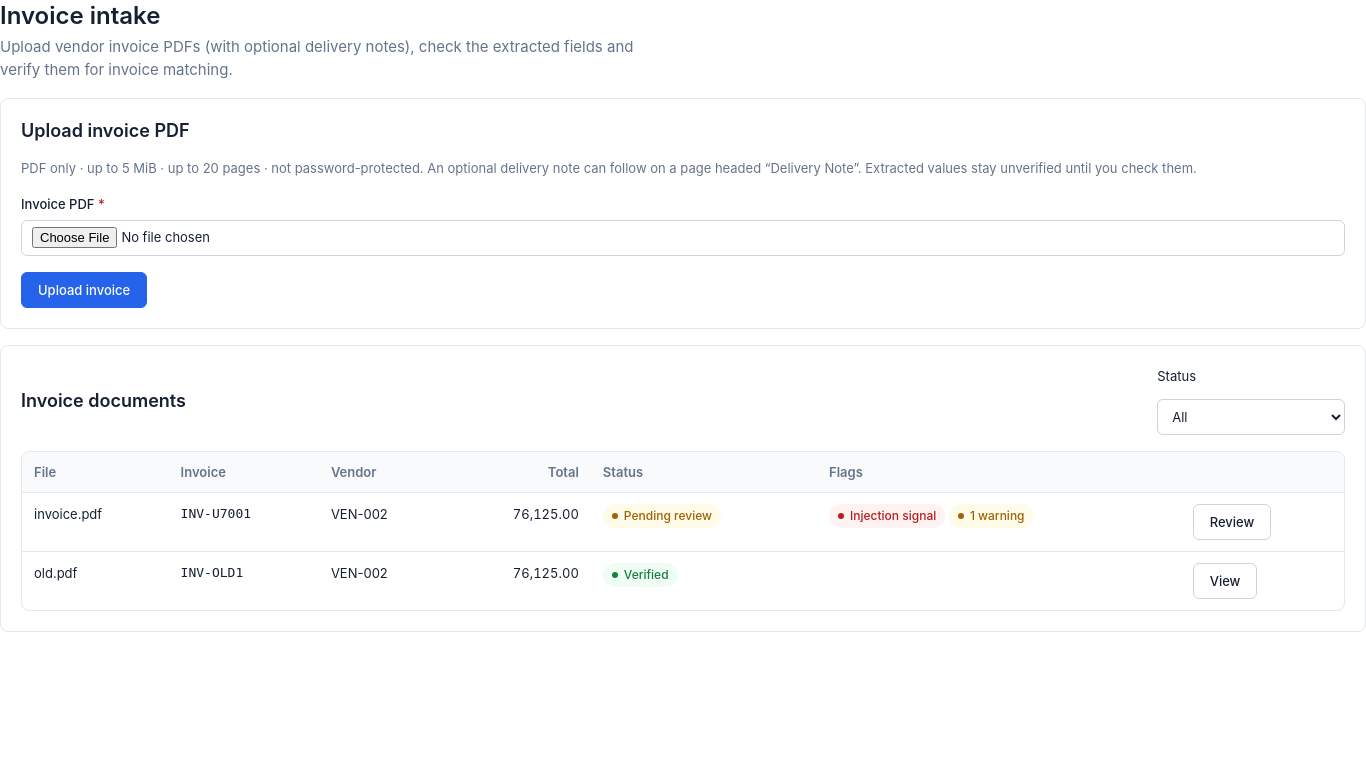
Scenario: InvoiceIntakePage › rejects with a reason
Click the button "Review".
click(1232, 522)  # box [1193, 504, 1271, 540]
(page scrolled)
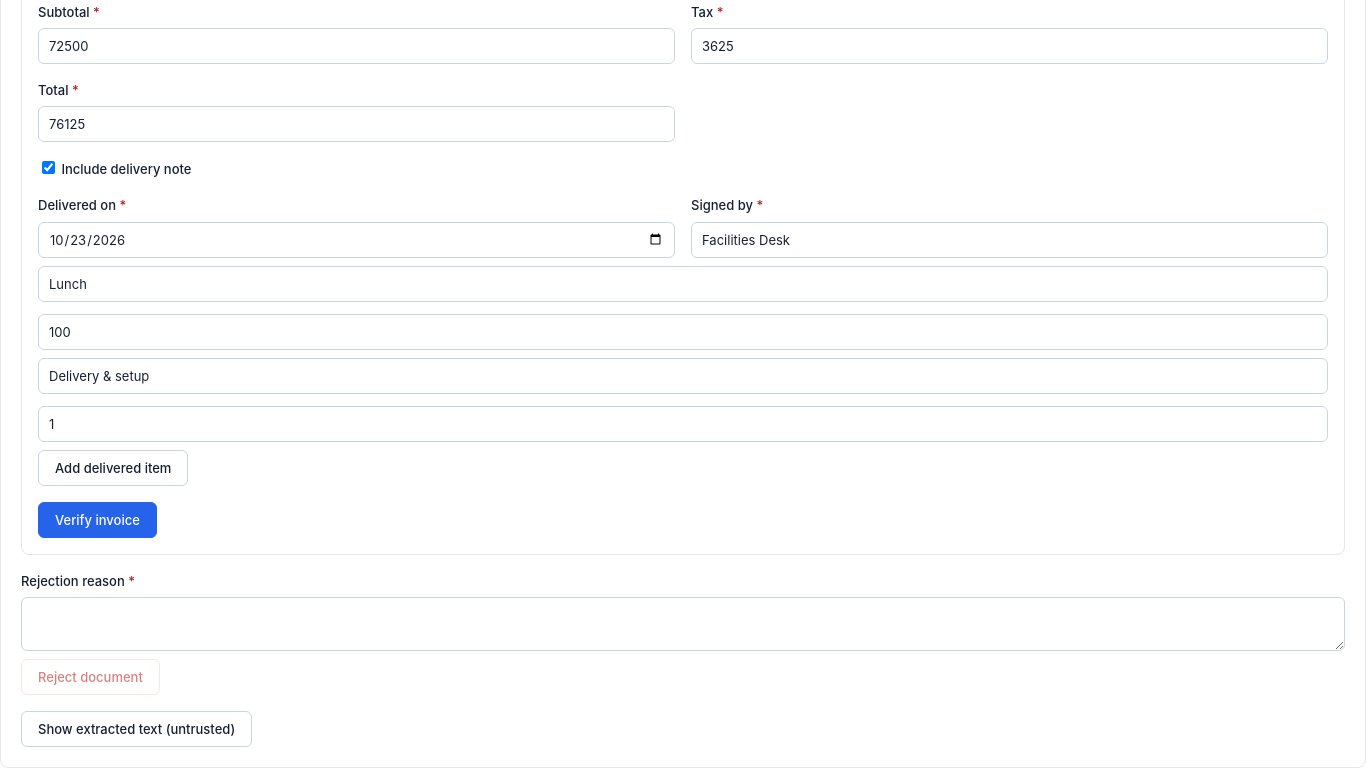
Expected: the button "Reject document" is disabled, [21, 659, 160, 695]
Type "Wrong vendor" into the text box labelled "Rejection reason".
click(683, 624); type("Wrong vendor")  # box [21, 597, 1345, 651]
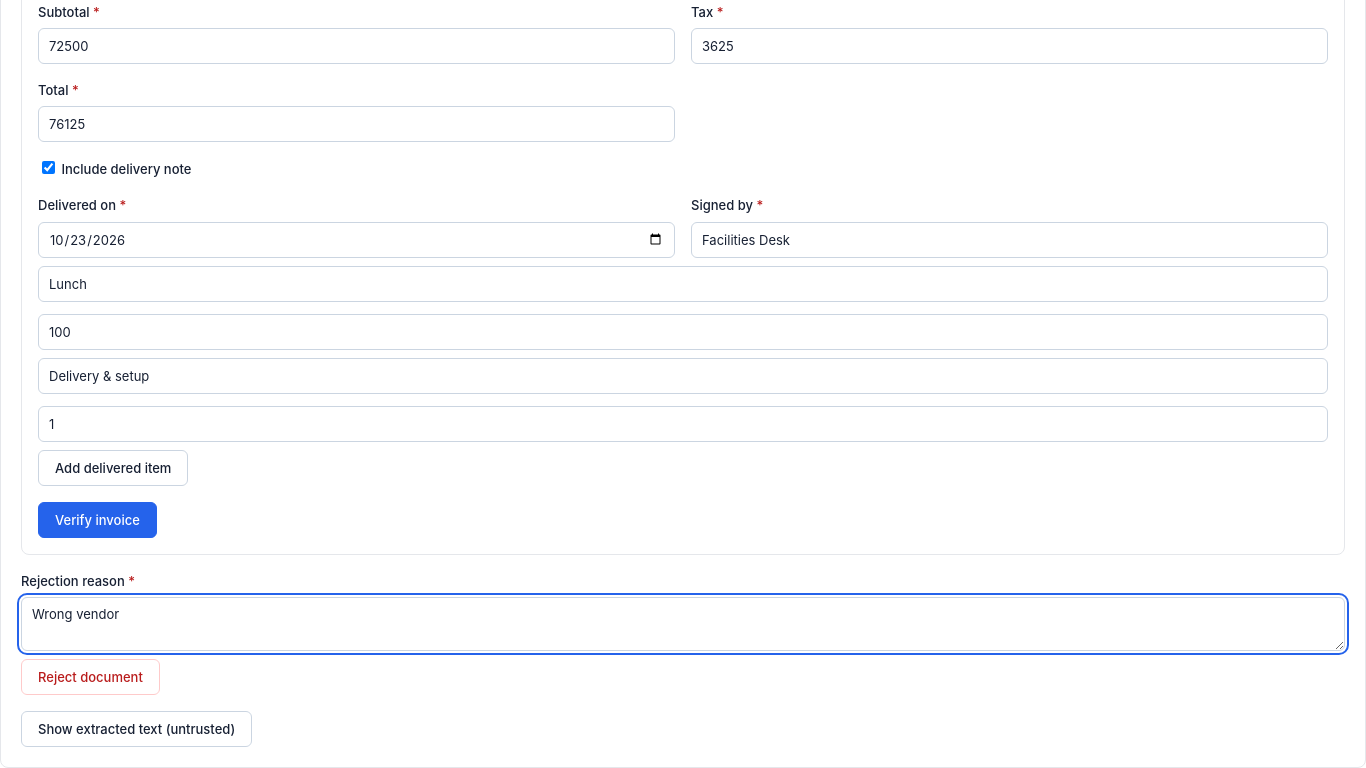
Click the button "Reject document".
click(90, 677)  # box [21, 659, 160, 695]
(page scrolled)
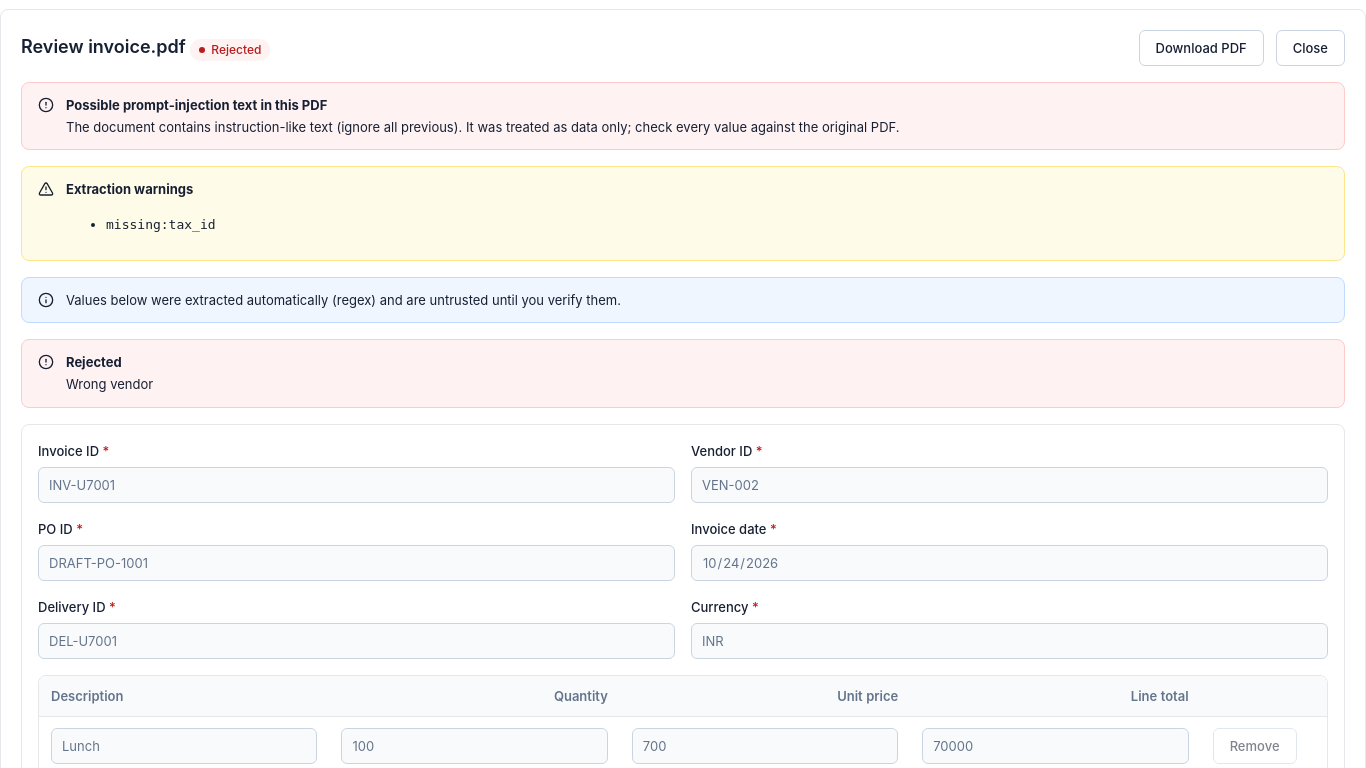
Expected: the text "Wrong vendor" is shown, [66, 374, 153, 395]
